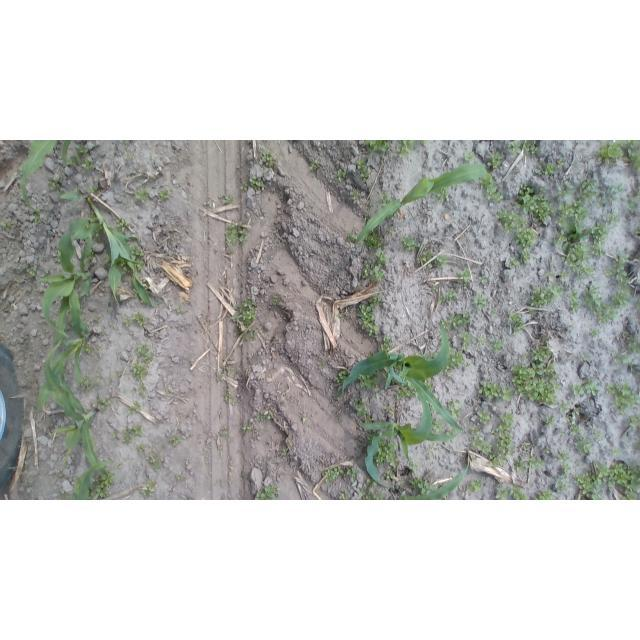Maize: (342, 323, 467, 431), (354, 164, 489, 252), (354, 397, 458, 487), (85, 196, 163, 310), (38, 215, 103, 342), (46, 339, 105, 473), (35, 296, 94, 415), (20, 141, 70, 216), (398, 452, 471, 501), (73, 461, 113, 500)
Weeds: (512, 345, 561, 404), (595, 463, 640, 500), (514, 184, 552, 221), (607, 381, 637, 417), (566, 246, 596, 277), (492, 411, 513, 453), (573, 472, 603, 501), (530, 285, 563, 308), (376, 437, 400, 467), (556, 200, 587, 222), (468, 426, 491, 455), (566, 223, 595, 246), (605, 254, 628, 283), (229, 299, 253, 326), (132, 362, 149, 398), (496, 212, 525, 233), (597, 141, 623, 164), (495, 481, 526, 500), (360, 305, 379, 336), (224, 221, 247, 246), (93, 472, 113, 499), (485, 175, 504, 201), (583, 285, 601, 312), (592, 223, 607, 255), (612, 285, 633, 306), (361, 479, 383, 499), (516, 228, 539, 247), (478, 382, 501, 401), (443, 312, 470, 328), (515, 456, 545, 470), (598, 306, 619, 326), (627, 140, 640, 170), (135, 343, 154, 363), (397, 382, 418, 400), (448, 351, 465, 373), (365, 264, 384, 283), (555, 473, 573, 493), (255, 484, 277, 500), (580, 180, 596, 201), (364, 140, 389, 153), (509, 312, 524, 333), (353, 394, 367, 416), (472, 293, 489, 311), (140, 479, 156, 498), (585, 379, 603, 395), (569, 289, 580, 315), (533, 163, 554, 176), (576, 436, 591, 454), (398, 140, 413, 158), (325, 467, 343, 482), (487, 152, 503, 168), (447, 399, 461, 417), (591, 426, 606, 442), (559, 180, 574, 196), (417, 247, 432, 263), (610, 183, 623, 201), (362, 376, 381, 388), (491, 454, 506, 469), (147, 455, 162, 470), (489, 339, 504, 354), (552, 230, 566, 246), (507, 140, 522, 154), (49, 174, 62, 190), (344, 468, 360, 481), (460, 331, 473, 347), (358, 159, 369, 177), (95, 396, 109, 410), (367, 235, 381, 249), (458, 269, 473, 282), (535, 490, 554, 500), (612, 354, 633, 363), (121, 428, 132, 445), (131, 245, 144, 259), (437, 188, 450, 202), (134, 189, 149, 201), (628, 337, 640, 352), (419, 483, 438, 492), (116, 218, 129, 231), (244, 330, 257, 343), (525, 140, 538, 153), (404, 237, 416, 251), (476, 334, 488, 348), (379, 338, 394, 349), (376, 251, 391, 262), (82, 375, 91, 393), (603, 211, 619, 221), (134, 312, 147, 324), (596, 194, 608, 207), (572, 383, 585, 395), (369, 295, 384, 305), (435, 416, 444, 432), (479, 410, 490, 423), (69, 154, 80, 167), (81, 160, 94, 171), (469, 480, 482, 491), (434, 255, 447, 266), (520, 442, 533, 452), (258, 411, 271, 421), (132, 424, 142, 437), (124, 316, 134, 329), (410, 476, 423, 486), (502, 388, 512, 401), (561, 464, 575, 473), (561, 402, 572, 413), (161, 189, 171, 201), (249, 176, 261, 186), (347, 230, 357, 242), (335, 371, 345, 383), (626, 201, 639, 210), (522, 249, 531, 262), (569, 423, 579, 434), (629, 417, 640, 427), (169, 436, 179, 447), (336, 170, 347, 180), (410, 461, 421, 471), (447, 288, 458, 298), (466, 150, 475, 162), (426, 380, 435, 392), (75, 146, 88, 154), (381, 192, 389, 205), (227, 367, 237, 377), (548, 272, 557, 283), (386, 404, 393, 417), (612, 447, 622, 456), (262, 152, 272, 161), (351, 189, 360, 199), (310, 162, 319, 172), (546, 414, 554, 425), (33, 213, 41, 224), (271, 297, 280, 306), (385, 471, 394, 480), (216, 371, 224, 381), (387, 226, 397, 234), (219, 427, 227, 436), (84, 344, 92, 353), (137, 446, 147, 453), (113, 429, 120, 439), (562, 271, 569, 281), (557, 453, 568, 459), (27, 267, 35, 275), (135, 262, 143, 270), (240, 182, 248, 190), (446, 428, 455, 435), (574, 408, 583, 415), (545, 445, 552, 454), (124, 151, 133, 158), (104, 256, 111, 265), (225, 197, 234, 204), (420, 141, 429, 148), (604, 269, 613, 276), (478, 276, 487, 283), (634, 443, 640, 453), (225, 391, 230, 403), (565, 414, 572, 422), (590, 329, 597, 337), (177, 308, 186, 314), (319, 363, 326, 370), (132, 403, 140, 409), (1, 222, 10, 227), (339, 493, 346, 499), (633, 191, 639, 198), (513, 261, 519, 268), (583, 353, 589, 360), (465, 362, 471, 369), (438, 297, 446, 302), (115, 370, 121, 376), (369, 201, 375, 207), (365, 213, 371, 219), (557, 160, 563, 166), (244, 427, 251, 432), (623, 332, 630, 337), (529, 309, 536, 314), (220, 364, 225, 370), (303, 417, 308, 423), (176, 475, 182, 480), (425, 354, 430, 360), (493, 309, 498, 315), (337, 313, 343, 318), (129, 409, 136, 413), (430, 352, 437, 356), (636, 302, 640, 309), (231, 355, 236, 359), (560, 429, 564, 433), (132, 387, 136, 391), (283, 449, 288, 452)
